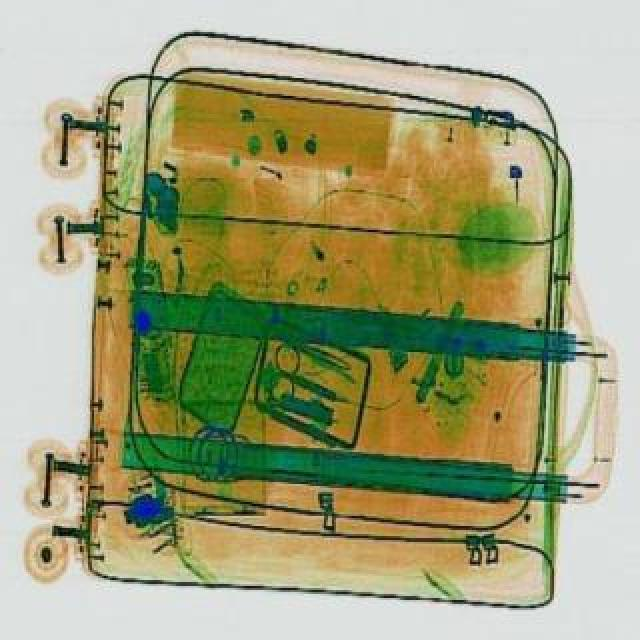pliers: (256, 340, 364, 424)
